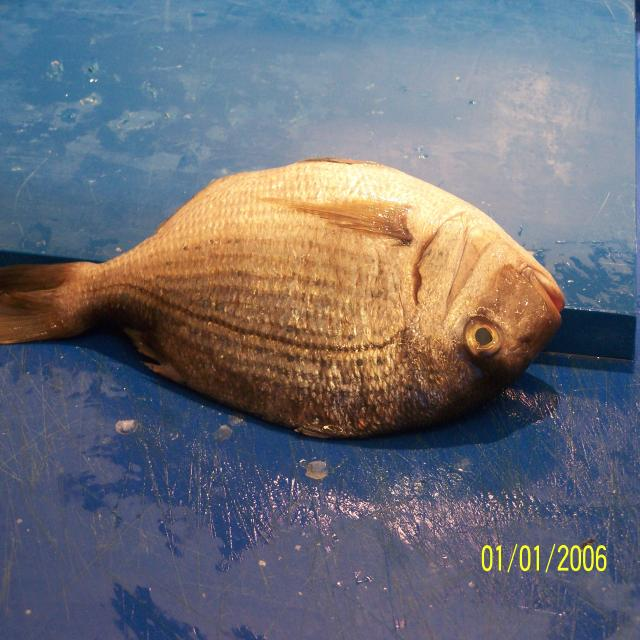Red-Sea-Bream-mercan-: (0, 159, 564, 441)
